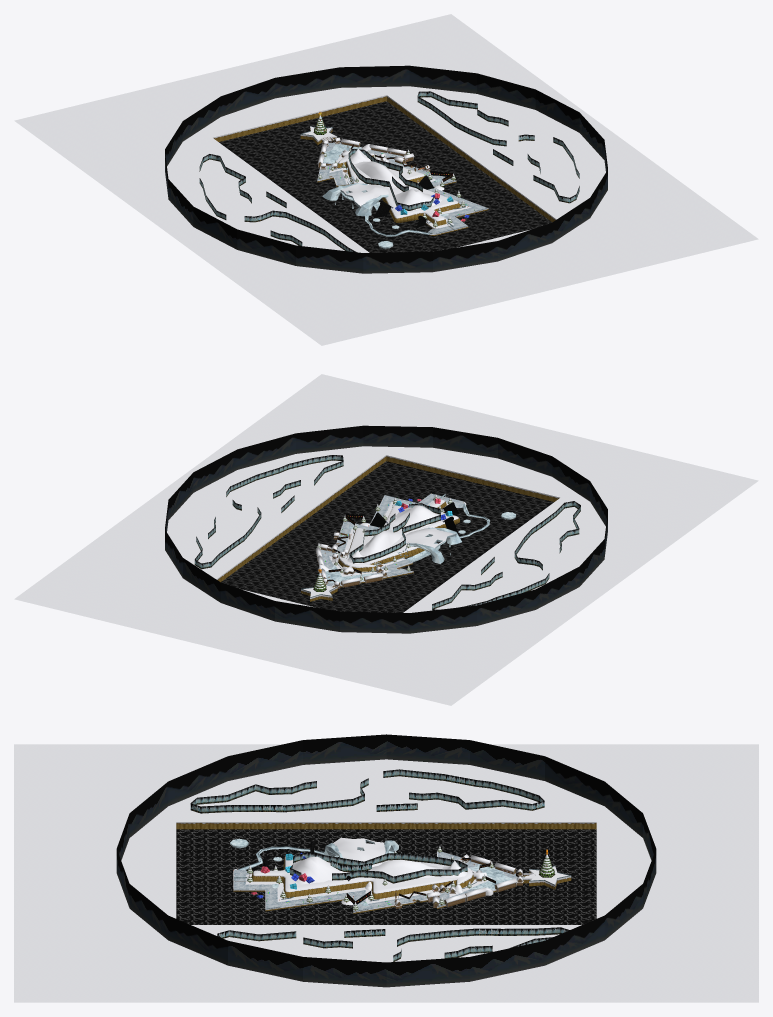
3 views of the same model, one above another, from view 1: azimuth 30°, elevation 25°; view 2: azimuth 150°, elevation 25°; view 3: azimuth 270°, elevation 25° (orthographic). The views are drawn at different scales.
Visible parts, largest first — view 1: snow.003, bg_moutains.001, water.025, dks_tree_all.001, wall_snow.003, road.042, ice.001, xlu_ice.001, dsk_tree.001; view 2: snow.003, bg_moutains.001, water.025, dks_tree_all.001, wall_snow.003, road.042, ice.001, xlu_ice.001, dsk_tree.001; view 3: snow.003, bg_moutains.001, water.025, dks_tree_all.001, wall_snow.003, road.042, dsk_tree.001, xlu_ice.001, ice.001, house.005, pa_fences.001.
Boxes of the visible parts, x1,y1,x2,y2 form: snow.003: (14,14,758,345); bg_moutains.001: (165,65,607,273); water.025: (219,101,551,252); dks_tree_all.001: (199,91,579,252); wall_snow.003: (213,95,556,235); road.042: (317,142,487,234); ice.001: (322,167,453,236); xlu_ice.001: (323,144,448,248); dsk_tree.001: (313,115,465,227); snow.003: (14,374,758,705); bg_moutains.001: (165,425,607,633); water.025: (221,461,553,612); dks_tree_all.001: (194,455,580,610); wall_snow.003: (216,455,559,601); road.042: (320,493,466,586); ice.001: (346,494,489,565); xlu_ice.001: (325,512,516,582); dsk_tree.001: (313,494,452,591); snow.003: (14,744,758,1002); bg_moutains.001: (116,734,656,987); water.025: (176,829,596,924); dks_tree_all.001: (190,769,569,961); wall_snow.003: (176,822,596,913); road.042: (233,850,524,911); dsk_tree.001: (247,846,555,910); xlu_ice.001: (230,838,513,905); ice.001: (233,839,401,880); house.005: (394,857,522,908); pa_fences.001: (233,846,571,911).
Size of the model in its own units: 232861 by 19568 by 283895.
Materials: 30 (30 with a texture image).
